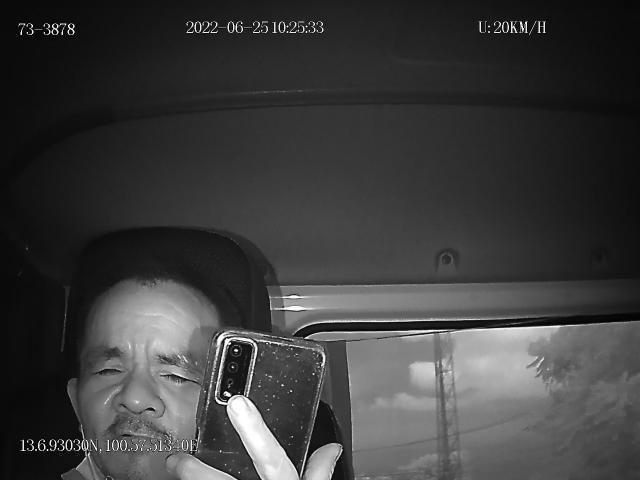PhoneUse: (192, 330, 328, 480)
SafeDriving: (84, 352, 130, 386)
